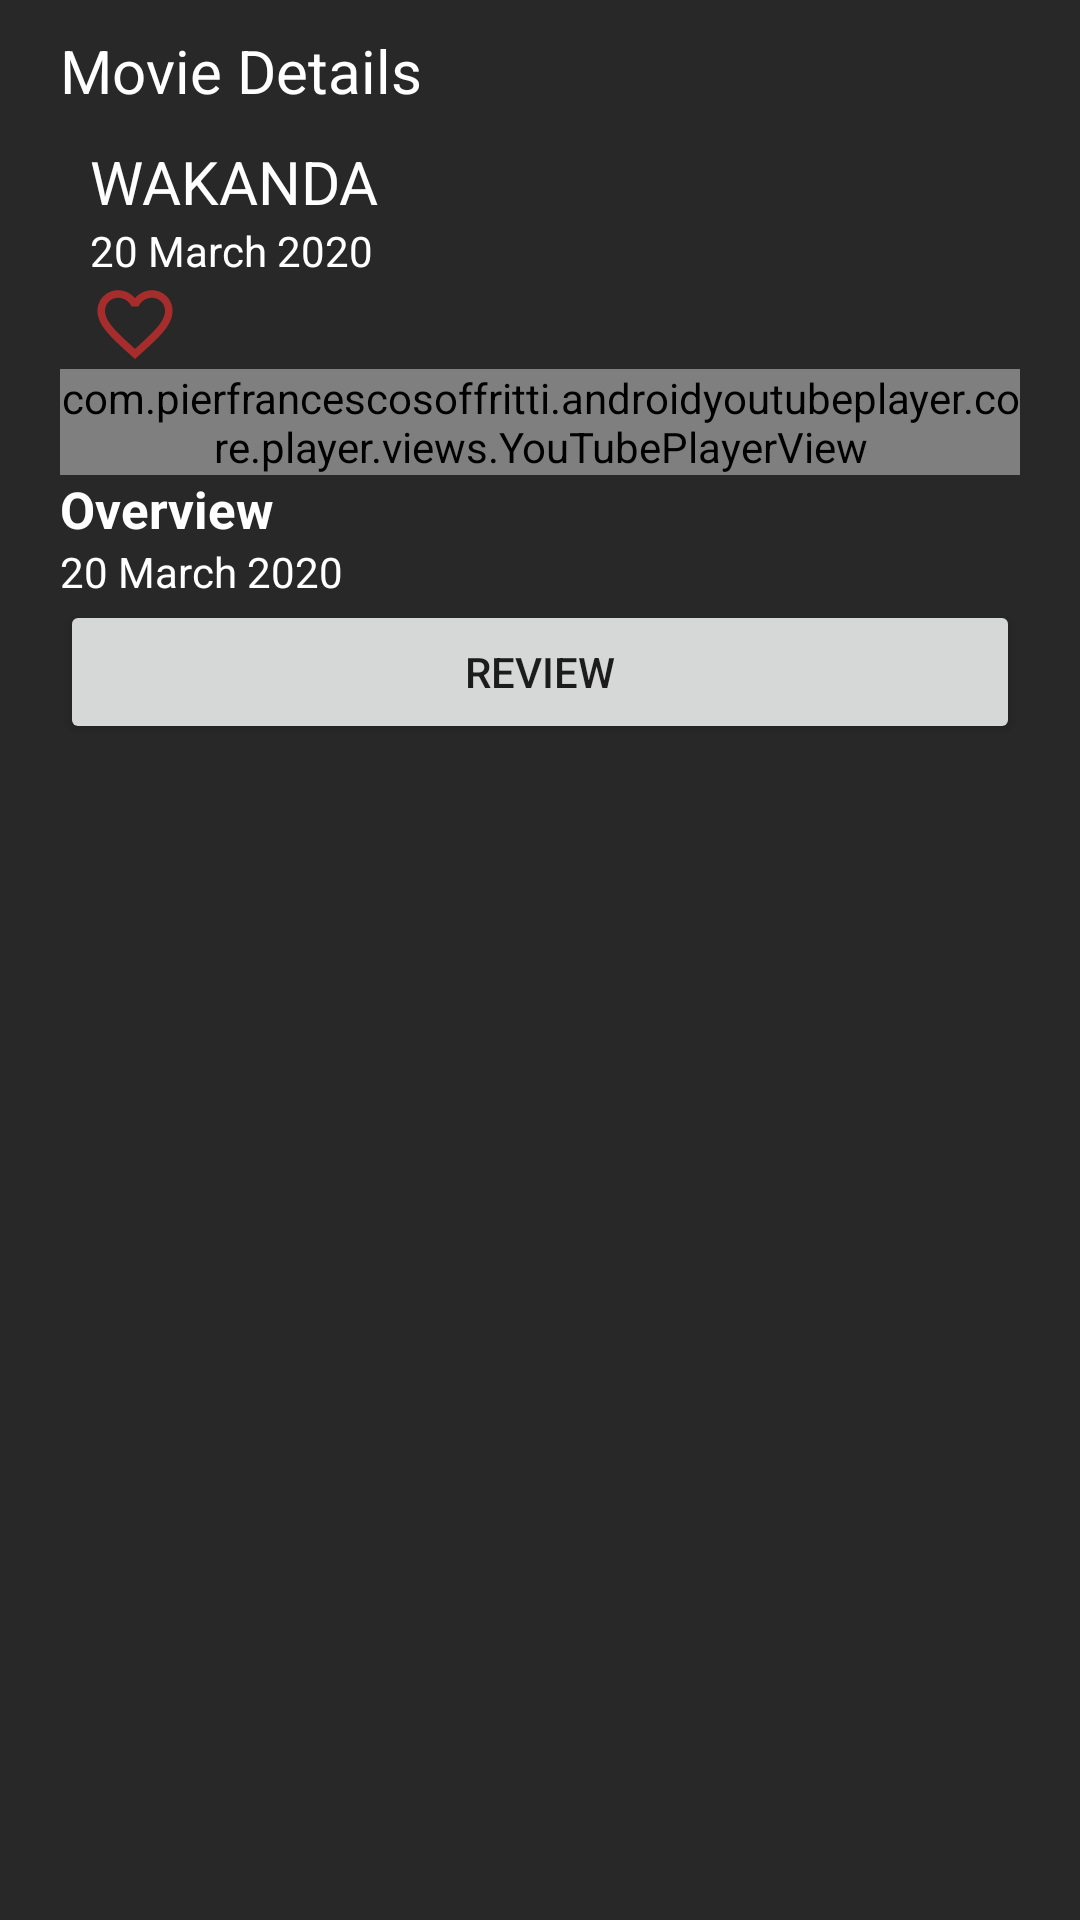

Icons on this 1080 × 1920 Android screen, each with the point to tap as [x,y]:
favorite border: [135,324]
